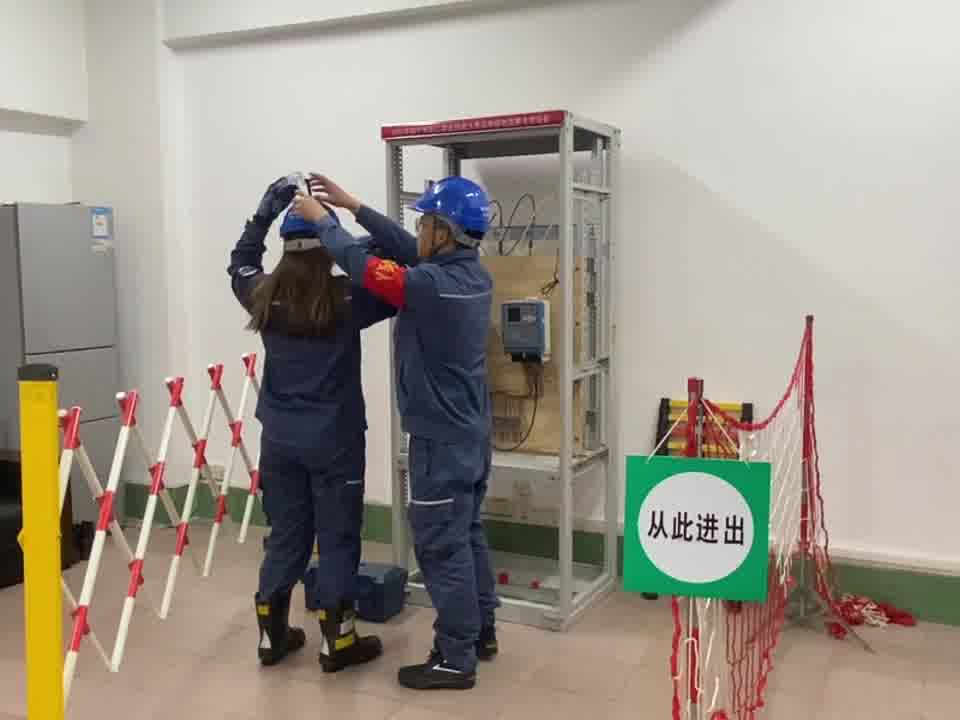badge: (363, 255, 408, 308)
downsuit: (406, 441, 501, 662), (255, 432, 372, 606)
glove: (251, 176, 291, 217)
hair: (250, 212, 339, 334)
halt: (416, 175, 496, 246)
hand: (305, 175, 357, 209), (289, 191, 325, 223)
inear: (427, 215, 455, 246)
intosign: (625, 455, 770, 599)
person: (228, 173, 404, 658), (397, 174, 506, 691)
shoe: (312, 605, 382, 668), (253, 604, 305, 661)
sleeve: (235, 262, 261, 278)
upsuit: (226, 213, 385, 419), (401, 250, 497, 429)
